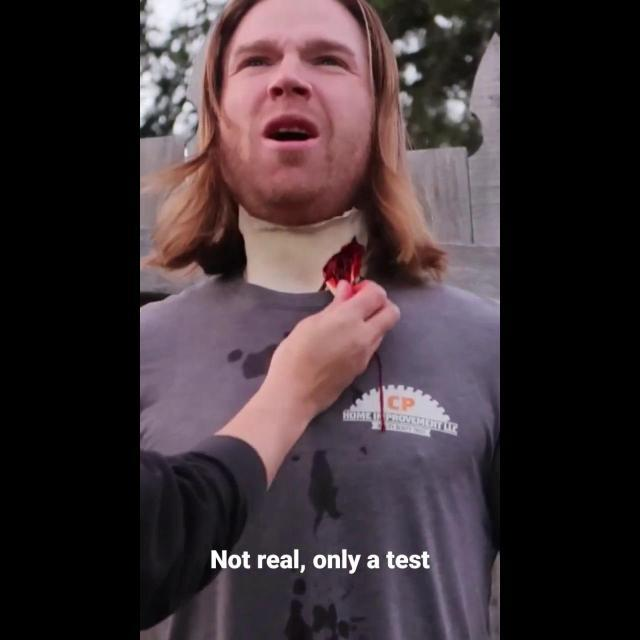blood: (323, 236, 364, 294), (373, 352, 386, 433)
